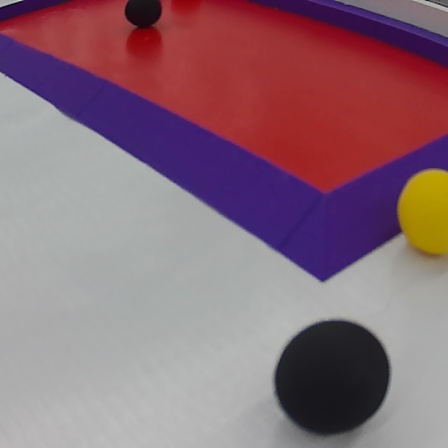black: (270, 318, 395, 437), (121, 0, 159, 32)
red_aim: (0, 0, 447, 285)
yellow: (393, 163, 448, 262)
